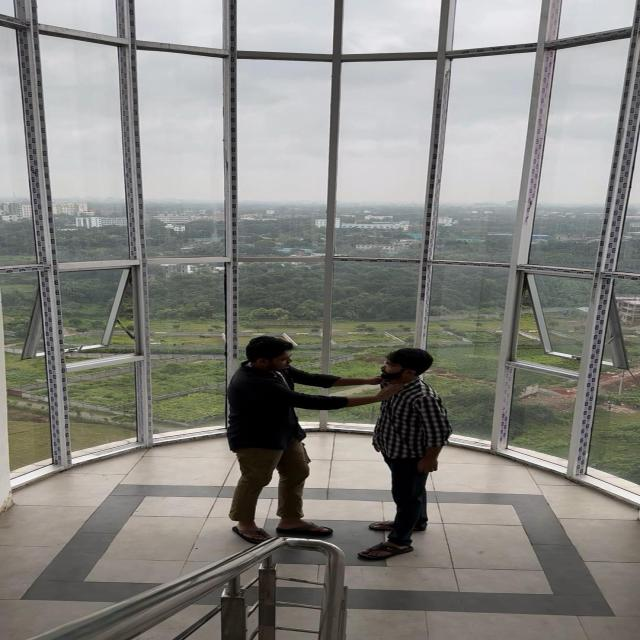fight: (192, 304, 500, 581)
